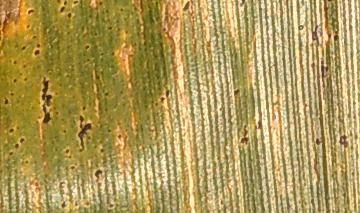tarspot: (39, 76, 53, 124), (77, 114, 91, 154), (318, 54, 331, 89), (240, 124, 249, 144), (310, 24, 319, 44), (338, 134, 349, 148), (93, 167, 103, 179), (20, 62, 30, 74), (254, 119, 263, 132), (2, 95, 10, 109), (181, 1, 191, 12), (63, 146, 72, 156), (19, 44, 30, 52), (32, 48, 41, 57), (160, 25, 169, 34), (232, 87, 240, 97), (315, 137, 323, 146), (27, 7, 35, 16), (308, 61, 317, 69), (163, 89, 171, 98), (107, 202, 115, 211), (105, 127, 113, 136), (31, 32, 38, 42), (18, 136, 26, 144), (7, 127, 15, 135), (94, 74, 102, 82), (115, 133, 123, 141), (239, 1, 248, 8), (24, 22, 31, 31), (83, 43, 90, 52), (59, 4, 66, 13), (60, 200, 67, 209), (103, 91, 112, 98), (333, 34, 340, 42), (297, 24, 304, 32), (13, 142, 20, 150), (69, 164, 76, 172), (61, 127, 68, 135), (80, 105, 88, 112), (118, 5, 125, 13), (99, 147, 105, 156), (102, 105, 108, 114), (11, 58, 18, 65), (23, 158, 30, 165), (123, 28, 130, 35), (110, 50, 116, 58), (12, 76, 17, 85), (67, 11, 72, 20), (7, 150, 14, 156), (106, 25, 112, 32), (22, 75, 28, 82), (34, 42, 40, 48), (159, 97, 164, 104), (73, 1, 79, 6), (98, 1, 103, 6), (63, 1, 67, 6), (67, 155, 72, 159), (326, 1, 331, 3), (55, 1, 60, 3)
